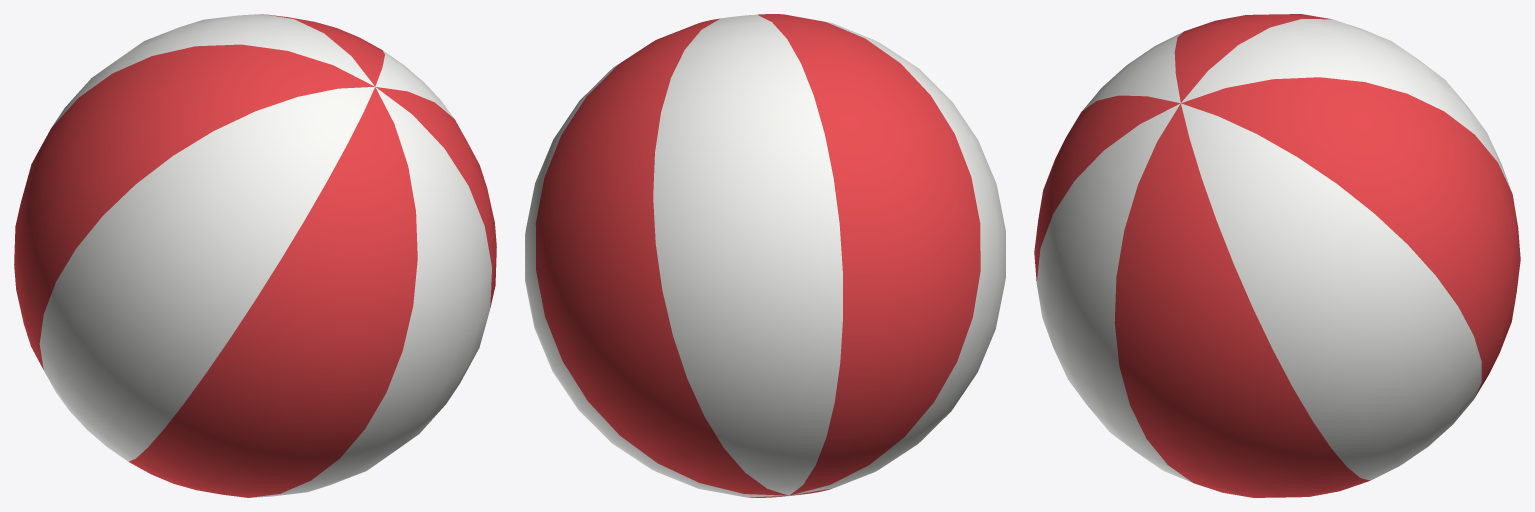
The model's file is brinquedo_bola_vermelha.glb.
3 renders of one model, left to right at view 1: azimuth 30°, elevation 25°; view 2: azimuth 150°, elevation 25°; view 3: azimuth 270°, elevation 25°, orthographic.
Visible parts, largest first — view 1: brinquedo_bola_vermelha; view 2: brinquedo_bola_vermelha; view 3: brinquedo_bola_vermelha.
Boxes of the visible parts, <box> form: brinquedo_bola_vermelha: <box>14,14,496,497</box>; brinquedo_bola_vermelha: <box>525,14,1005,497</box>; brinquedo_bola_vermelha: <box>1034,14,1520,497</box>.
Bounding box in the file's own units: 0.2398 × 0.2398 × 0.2398.
1 material, 1 textured.
